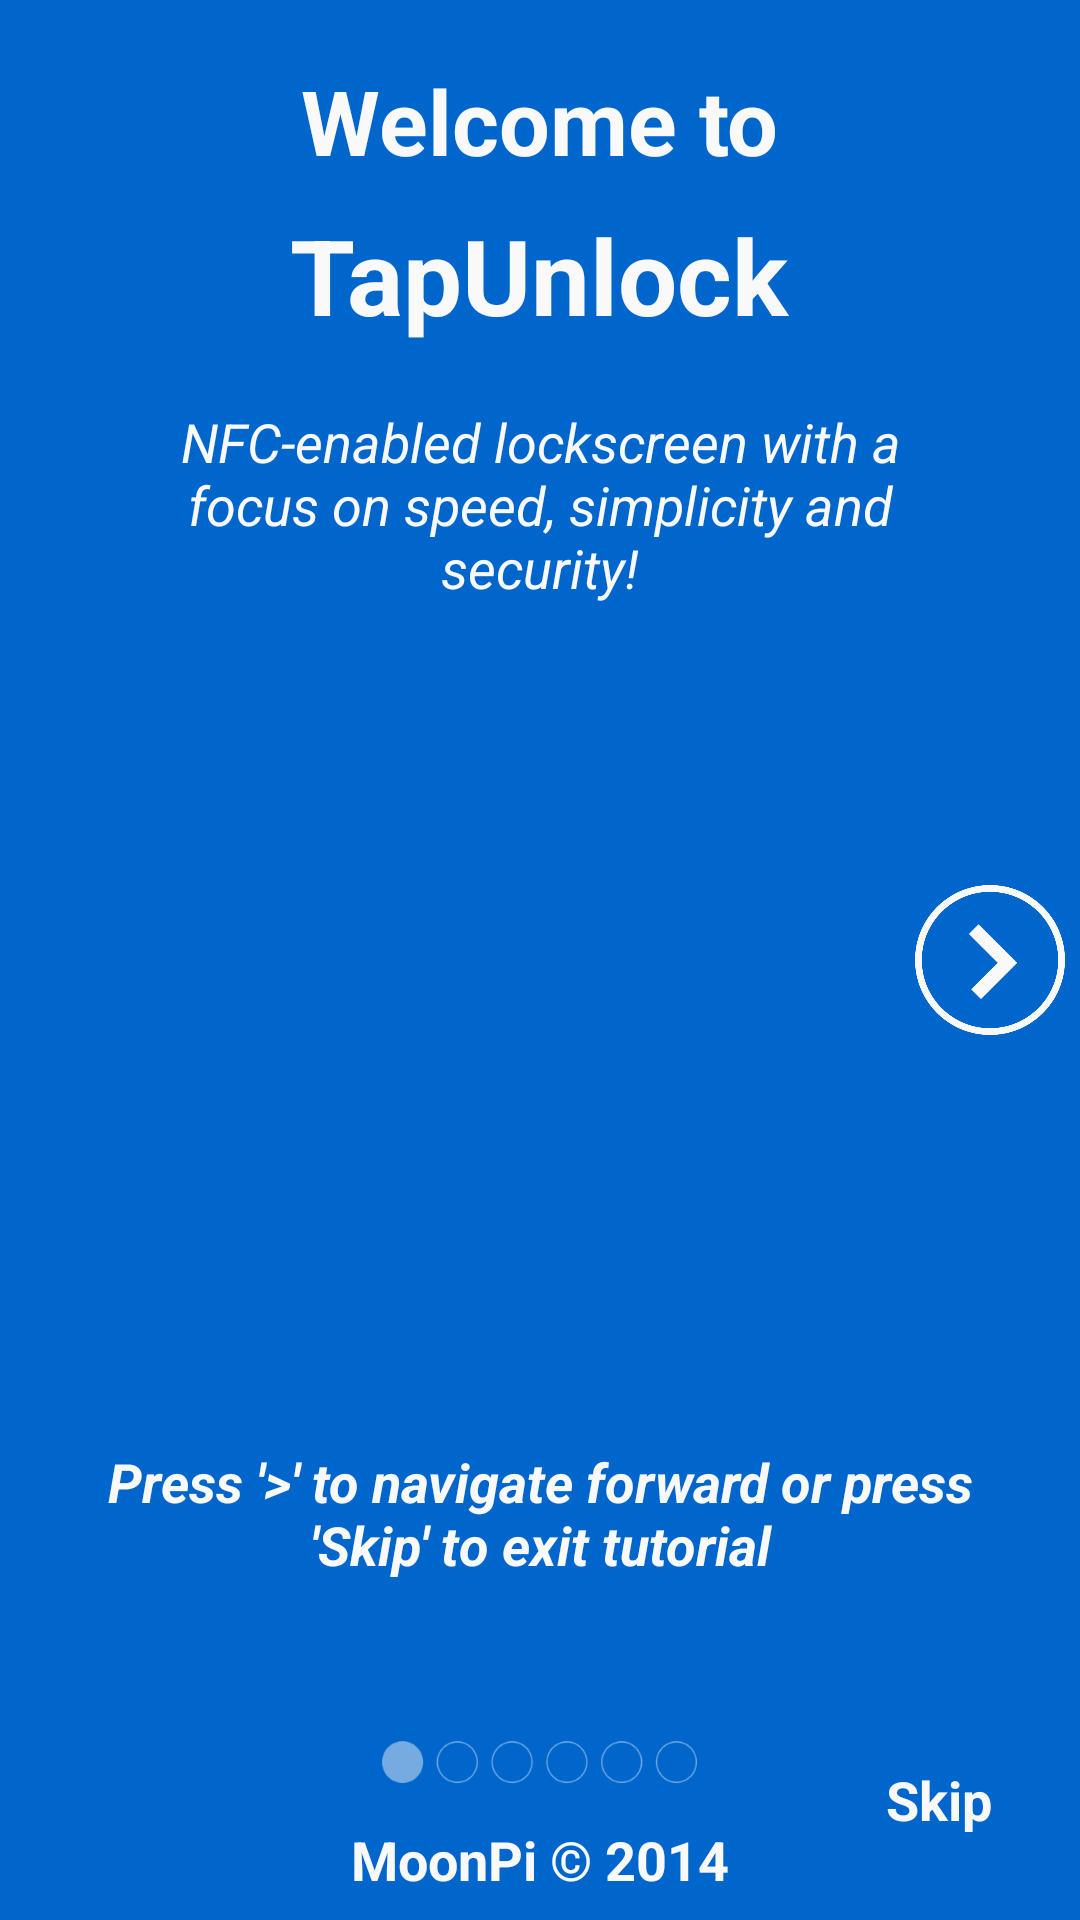

Point at icon controls on the screen. Image size 1080 x 1920, points as [x,y].
right: [990,960]
